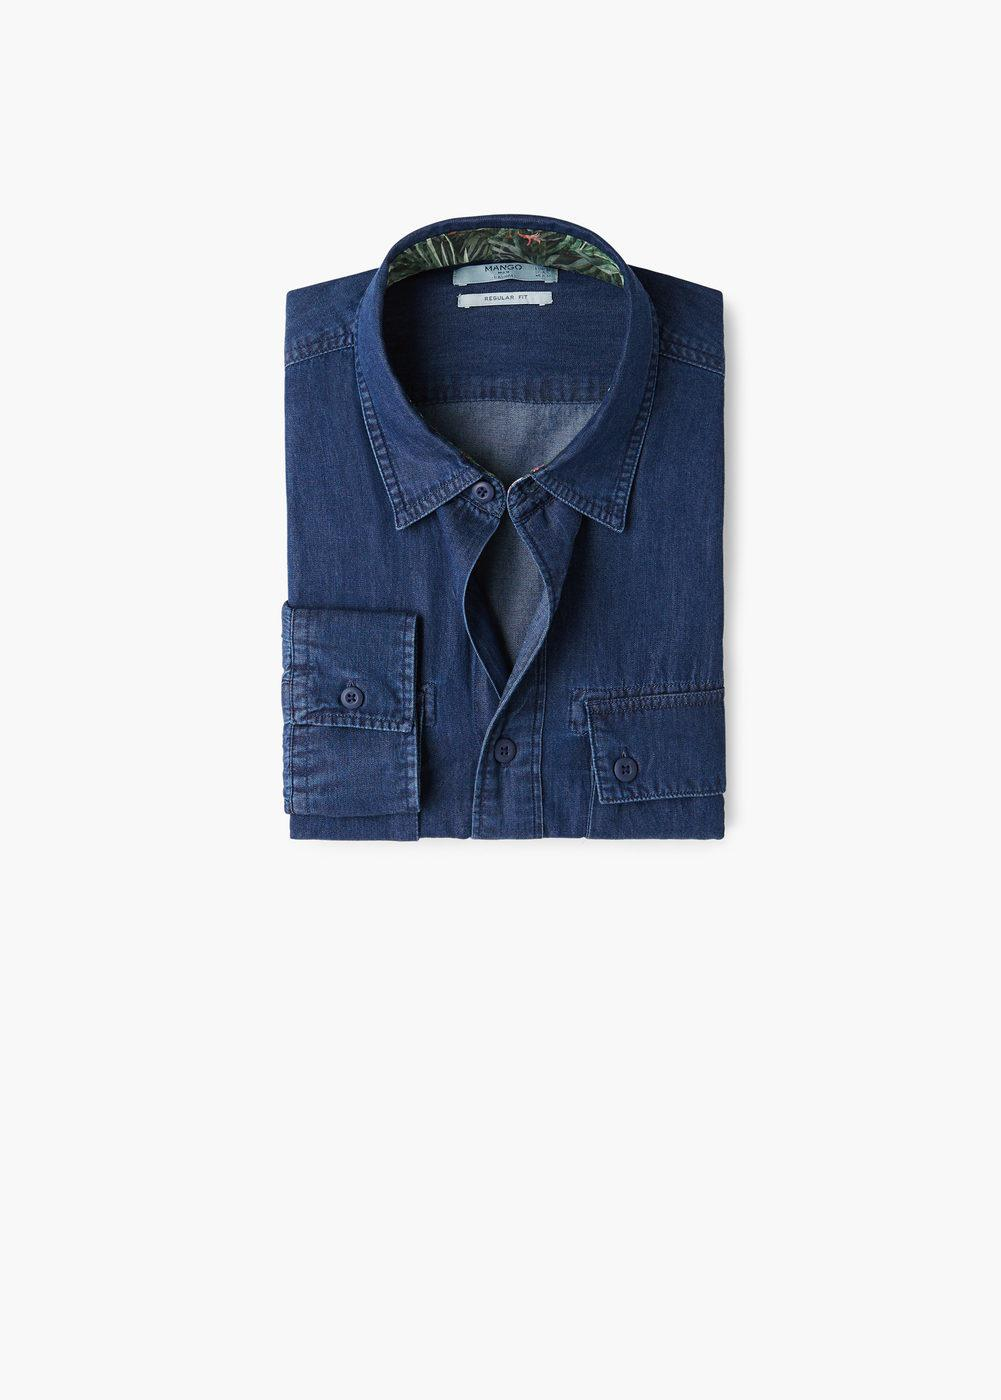teeshirt: (248, 204, 740, 861)
